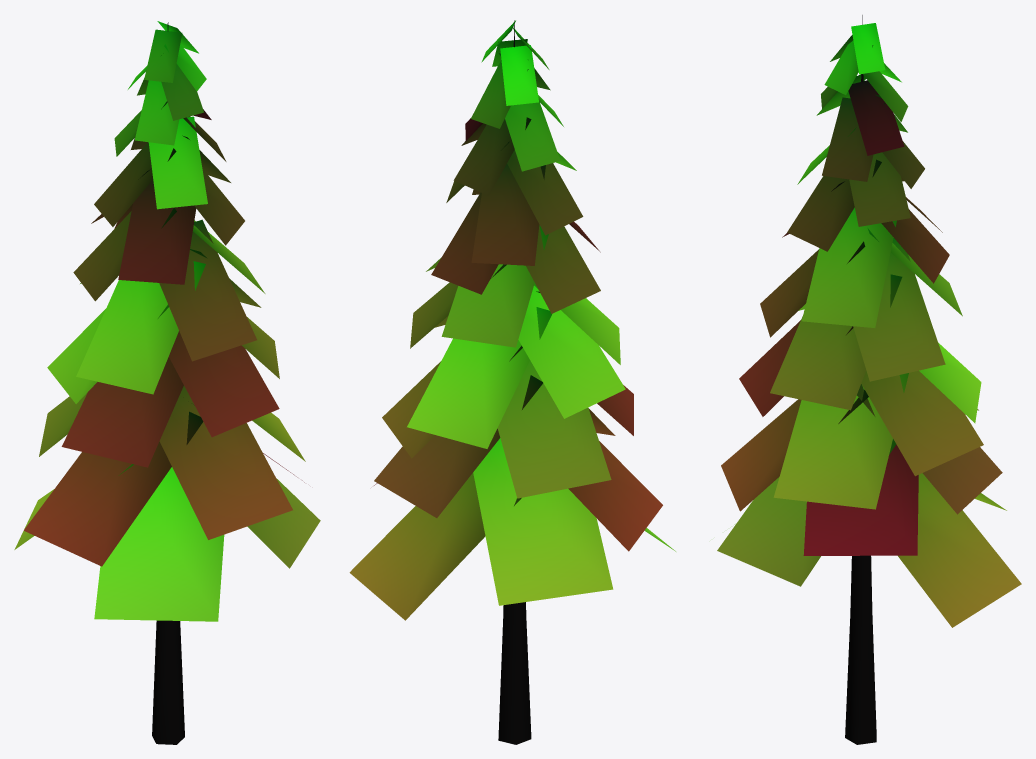
Rendered from SuperPine_1_2.fbx.
3 views of the same model, side by side, from view 1: azimuth 30°, elevation 25°; view 2: azimuth 150°, elevation 25°; view 3: azimuth 270°, elevation 25° (orthographic).
Parts seen in each view (by area): view 1: SuperPine_1_2; view 2: SuperPine_1_2; view 3: SuperPine_1_2.
Boxes of the visible parts, x1,y1,x2,y2 form: SuperPine_1_2: (14,21,320,744); SuperPine_1_2: (349,20,675,744); SuperPine_1_2: (717,15,1021,744).
Size of the model in its own units: 363 by 1000 by 395.
